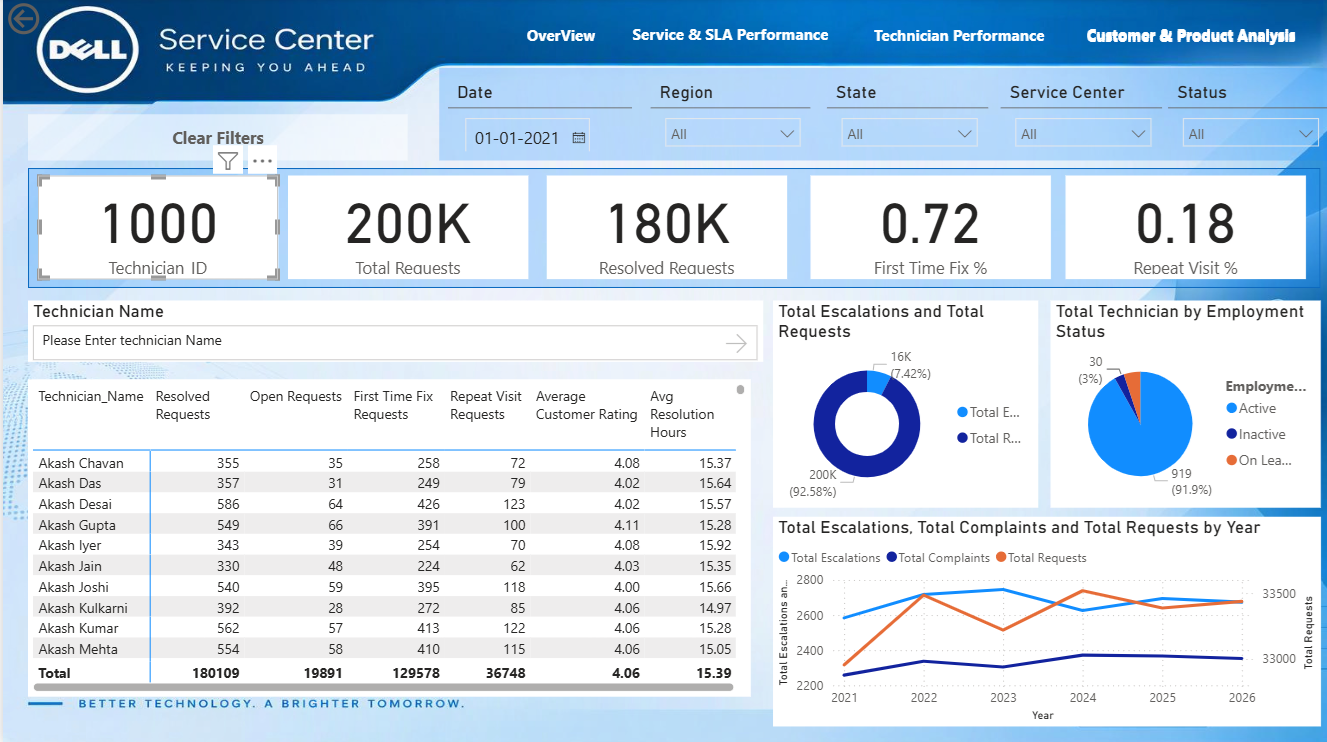

Layout of this report page (visuals, bound fields, positions):
{"tool":"powerbi","page":{"name":"Technician Performance","canvas":[1280,720],"ordinal":2},"visuals":[{"type":"shape","box":[393.3,8.4,873.5,47.1],"z":0},{"type":"actionButton","box":[1035.1,12.1,223.2,43.4],"z":1000},{"type":"shape","box":[437.9,15.7,833.7,44.6],"z":2000},{"type":"actionButton","box":[488.6,15.7,100.1,39.8],"z":3000},{"type":"actionButton","box":[597.2,14.5,209.9,38.6],"z":4000},{"type":"actionButton","box":[820.4,15.7,205.1,39.8],"z":5000},{"type":"actionButton","box":[1035.1,14.5,223.2,43.4],"z":6000},{"type":"shape","box":[421,67.6,859,89.3],"z":7000},{"type":"slicer","title":"Date","fields":{"Values":["Dim_Date.Date"]},"box":[429.5,76,177.3,72.4],"z":8000},{"type":"slicer","title":"Region","fields":{"Values":["Dim_Location.Region"]},"box":[624.9,76,154.4,72.4],"z":9000},{"type":"slicer","title":"State","fields":{"Values":["Dim_Location.State"]},"box":[795,76,155.6,72.4],"z":10000},{"type":"slicer","title":"Service Center","fields":{"Values":["Dim_Location.Service_Center"]},"box":[962.7,76,155.6,72.4],"z":11000},{"type":"slicer","title":"Status","fields":{"Values":["Fact_Service.Service_Status"]},"box":[1124.4,76,155.6,72.4],"z":12000},{"type":"actionButton","title":"Clear Filters","box":[24.1,112.2,366.8,44.6],"z":13000},{"type":"shape","box":[24.1,164.1,1247.5,115.8],"z":14000},{"type":"card","fields":{"Values":["Fact_Service.Total Requests"]},"box":[275.1,171.3,231.6,100.1],"z":15000},{"type":"card","fields":{"Values":["Fact_Service.Resolved Requests"]},"box":[524.8,171.3,231.6,100.1],"z":16000},{"type":"card","fields":{"Values":["Fact_Service.First Time Fix %"]},"box":[779.4,171.3,231.6,100.1],"z":17000},{"type":"card","fields":{"Values":["Fact_Service.Repeat Visit %"]},"box":[1025.5,171.3,231.6,100.1],"z":18000},{"type":"card","fields":{"Values":["CountNonNull(Dim_Technician.Technician_ID)"]},"box":[33.8,171.3,231.6,100.1],"z":19000},{"type":"pivotTable","fields":{"Rows":["Dim_Technician.Technician_Name"],"Values":["Fact_Service.Resolved Requests","Fact_Service.Open Requests","Fact_Service.FTF %","Fact_Service.Repeat Visit Requests","Fact_Service.Average Customer Rating","Fact_Service.Avg Resolution Hours"]},"box":[24.1,368,697.3,306.4],"z":20000},{"type":"actionButton","box":[0,0,100,40],"z":21000},{"type":"textSlicer","title":"Technician Name","fields":{"Values":["Dim_Technician.Technician_Name"]},"box":[24.1,292,709.4,59.1],"z":22000},{"type":"donutChart","fields":{"Y":["Fact_Service.Total Escalations","Fact_Service.Total Requests"]},"box":[743.2,292,255.8,200.3],"z":23000},{"type":"lineChart","fields":{"Y2":["Fact_Service.Total Requests"],"Category":["Dim_Date.Date.Variation.Date Hierarchy.Year"],"Y":["Fact_Service.Total Escalations","Fact_Service.Total Complaints"]},"box":[743.2,500.7,528.4,202.7],"z":24000},{"type":"pieChart","title":"Total Technician  by Employment Status","fields":{"Y":["Count(Dim_Technician.Technician_ID)"],"Series":["Dim_Technician.Employment_Status"]},"box":[1011,292,260.6,200.3],"z":25000}]}

Visuals, with their boxes in screenshot pixels (x1, y1, x2, y2), scaled from the page's 1280x720 canvas onto the 1327x742 screenshot:
shape: bbox=(408, 9, 1313, 57)
actionButton: bbox=(1073, 12, 1305, 57)
shape: bbox=(454, 16, 1318, 62)
actionButton: bbox=(507, 16, 610, 57)
actionButton: bbox=(619, 15, 837, 55)
actionButton: bbox=(851, 16, 1063, 57)
actionButton: bbox=(1073, 15, 1305, 60)
shape: bbox=(436, 70, 1326, 162)
"Date" slicer: bbox=(445, 78, 629, 153)
"Region" slicer: bbox=(648, 78, 808, 153)
"State" slicer: bbox=(824, 78, 986, 153)
"Service Center" slicer: bbox=(998, 78, 1159, 153)
"Status" slicer: bbox=(1166, 78, 1326, 153)
"Clear Filters" actionButton: bbox=(25, 116, 405, 162)
shape: bbox=(25, 169, 1318, 288)
card - Fact_Service.Total Requests: bbox=(285, 177, 525, 280)
card - Fact_Service.Resolved Requests: bbox=(544, 177, 784, 280)
card - Fact_Service.First Time Fix %: bbox=(808, 177, 1048, 280)
card - Fact_Service.Repeat Visit %: bbox=(1063, 177, 1303, 280)
card - CountNonNull(Dim_Technician.Technician_ID): bbox=(35, 177, 275, 280)
pivotTable - Dim_Technician.Technician_Name x Fact_Service.Resolved Requests: bbox=(25, 379, 748, 695)
actionButton: bbox=(0, 0, 104, 41)
"Technician Name" textSlicer: bbox=(25, 301, 760, 362)
donutChart - Fact_Service.Total Escalations x Fact_Service.Total Requests: bbox=(770, 301, 1036, 507)
lineChart - Fact_Service.Total Requests x Dim_Date.Date.Variation.Date Hierarchy.Year: bbox=(770, 516, 1318, 725)
"Total Technician  by Employment Status" pieChart: bbox=(1048, 301, 1318, 507)
